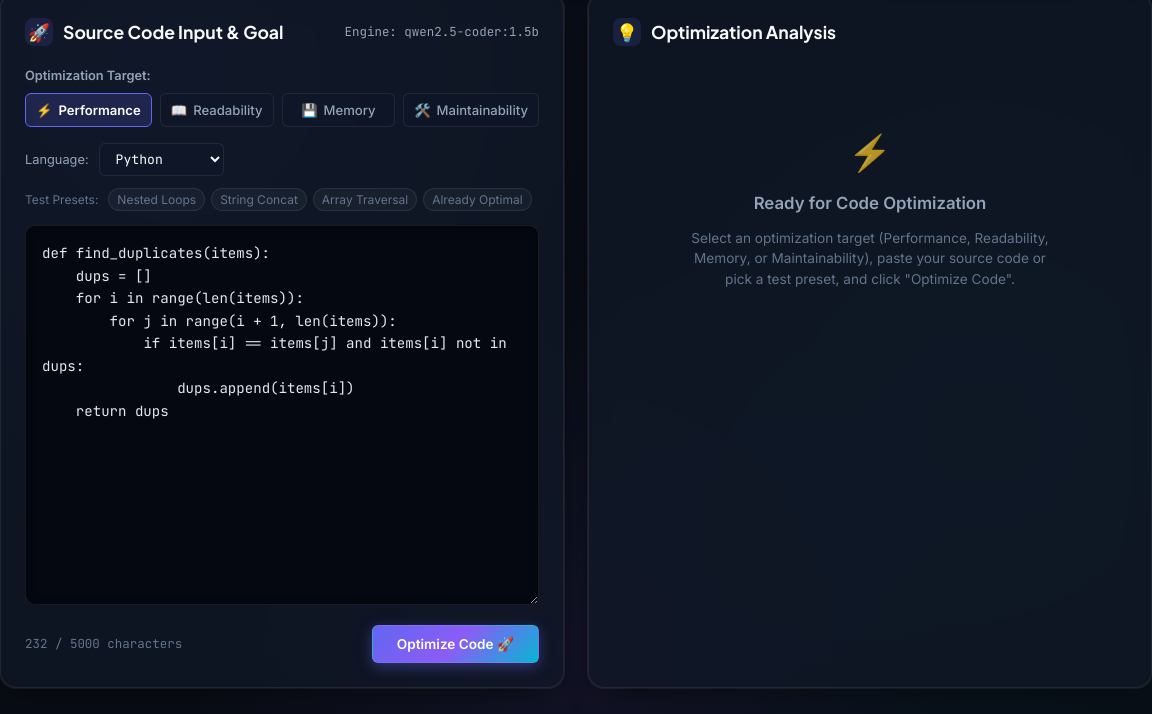
CodeOptimizerView Feature Integration › allows copying optimized code to clipboard with visual feedback
(page scrolled)
Click the button named "Optimize Code with AI".
click(455, 644)  # box [372, 625, 539, 663]
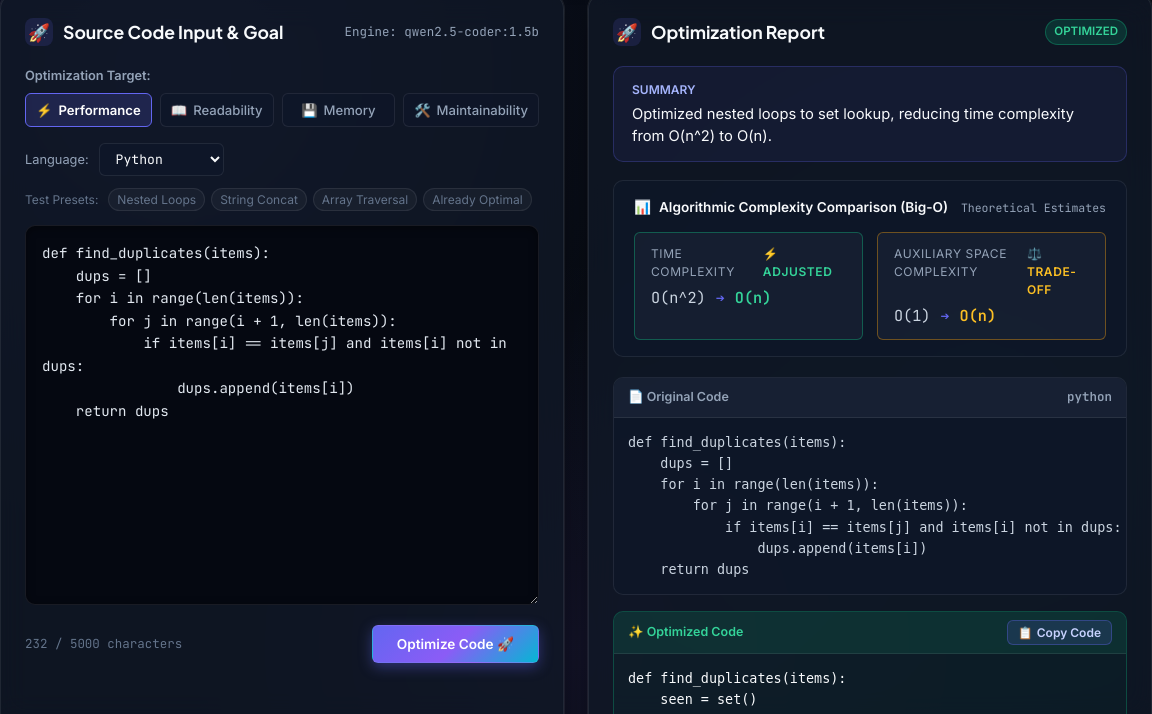
expect the button named "Copy Optimized Code" is shown: met
Click the button named "Copy Optimized Code".
click(1059, 633)  # box [1007, 620, 1112, 645]
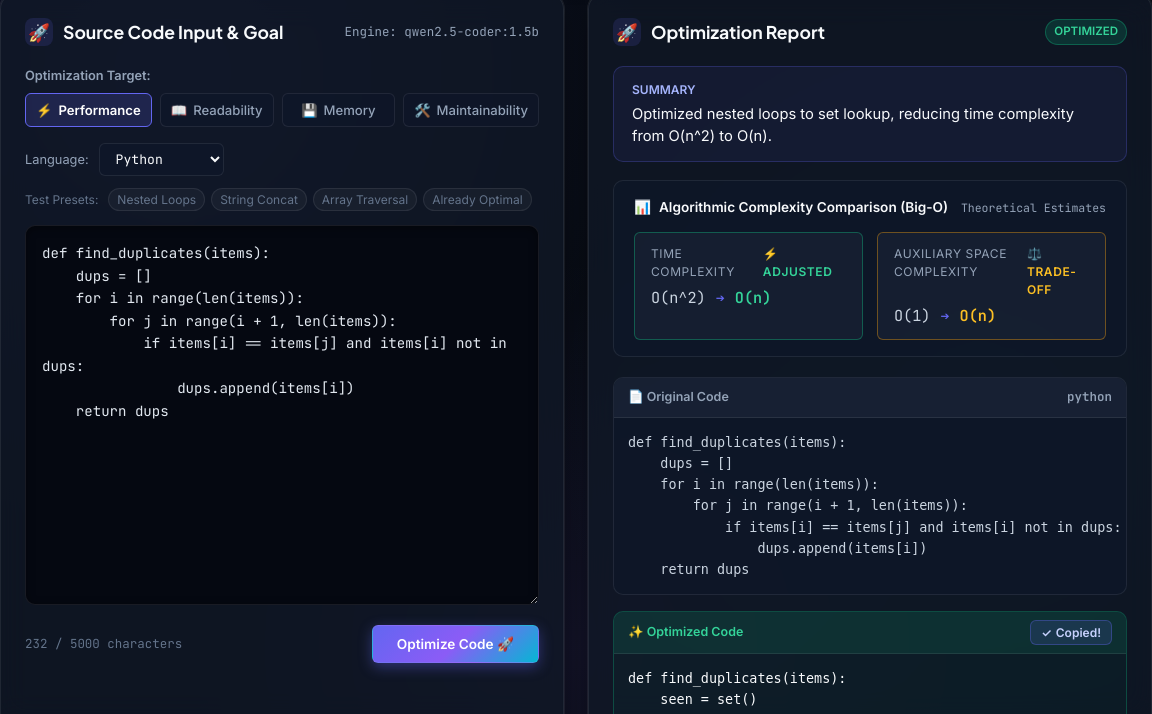
expect the text "Copied!" is shown: met, box [1056, 625, 1101, 640]
